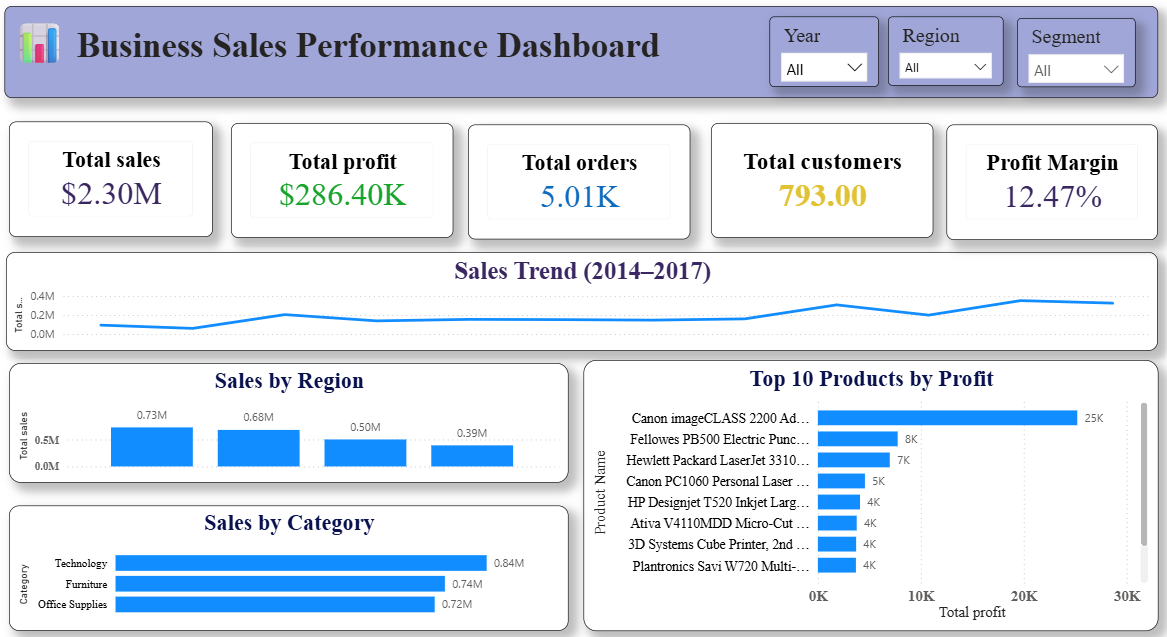

Layout of this report page (visuals, bound fields, positions):
{"tool":"powerbi","page":{"name":"Page 1","canvas":[1280,720],"ordinal":0},"visuals":[{"type":"cardVisual","title":"Total sales","fields":{"Data":["retail sales.Total sales"]},"box":[22.7,150.6,220.2,124.7],"z":0},{"type":"cardVisual","fields":{"Data":["retail sales.Total profit"]},"box":[262.1,151.7,240,124.1],"z":1000},{"type":"cardVisual","fields":{"Data":["retail sales.Total orders"]},"box":[518.6,154.5,240,124.1],"z":2000},{"type":"cardVisual","fields":{"Data":["retail sales.Total customers"]},"box":[780.7,151.7,240,124],"z":3000},{"type":"lineChart","title":"Sales Trend (2014–2017)","fields":{"Category":["retail sales.Order Date.Variation.Date Hierarchy.Month"],"Y":["retail sales.Total sales"]},"box":[19.4,291.5,1243.6,106.9],"z":4000},{"type":"clusteredColumnChart","title":"Sales by Region","fields":{"Category":["retail sales.Region"],"Y":["retail sales.Total sales"]},"box":[22.1,411,604.1,129.7],"z":5000},{"type":"clusteredBarChart","title":"Top 10 Products by Profit","fields":{"Category":["retail sales.Product Name"],"Y":["retail sales.Total profit"]},"box":[642.8,408.3,620.7,292.4],"z":6000},{"type":"clusteredBarChart","title":"Sales by Category","fields":{"Y":["retail sales.Total sales"],"Category":["retail sales.Category"]},"box":[22.1,565.5,604.1,135.2],"z":7000},{"type":"textbox","box":[18.2,26.3,1245.6,99.2],"z":8000},{"type":"slicer","fields":{"Values":["retail sales.Year"]},"box":[843.6,37.2,118.2,76.1],"z":9000},{"type":"slicer","fields":{"Values":["retail sales.Region"]},"box":[971.5,37.2,124.7,74.5],"z":10000},{"type":"slicer","fields":{"Values":["retail sales.Segment"]},"box":[1110.8,38.9,127.9,74.5],"z":11000},{"type":"cardVisual","fields":{"Data":["retail sales.Profit Margin"]},"box":[1034.7,153.8,228.3,124.7],"z":12000}]}

Visuals, with their boxes on the page's 1280x720 design canvas (x1, y1, x2, y2). These are canvas units, not pixel positions in the 1167x637 screenshot, which may show the page scaled, cropped or inside an application window:
"Total sales" cardVisual: box(23, 151, 243, 275)
cardVisual - retail sales.Total profit: box(262, 152, 502, 276)
cardVisual - retail sales.Total orders: box(519, 154, 759, 279)
cardVisual - retail sales.Total customers: box(781, 152, 1021, 276)
"Sales Trend (2014–2017)" lineChart: box(19, 292, 1263, 398)
"Sales by Region" clusteredColumnChart: box(22, 411, 626, 541)
"Top 10 Products by Profit" clusteredBarChart: box(643, 408, 1264, 701)
"Sales by Category" clusteredBarChart: box(22, 566, 626, 701)
textbox: box(18, 26, 1264, 126)
slicer - retail sales.Year: box(844, 37, 962, 113)
slicer - retail sales.Region: box(972, 37, 1096, 112)
slicer - retail sales.Segment: box(1111, 39, 1239, 113)
cardVisual - retail sales.Profit Margin: box(1035, 154, 1263, 278)
